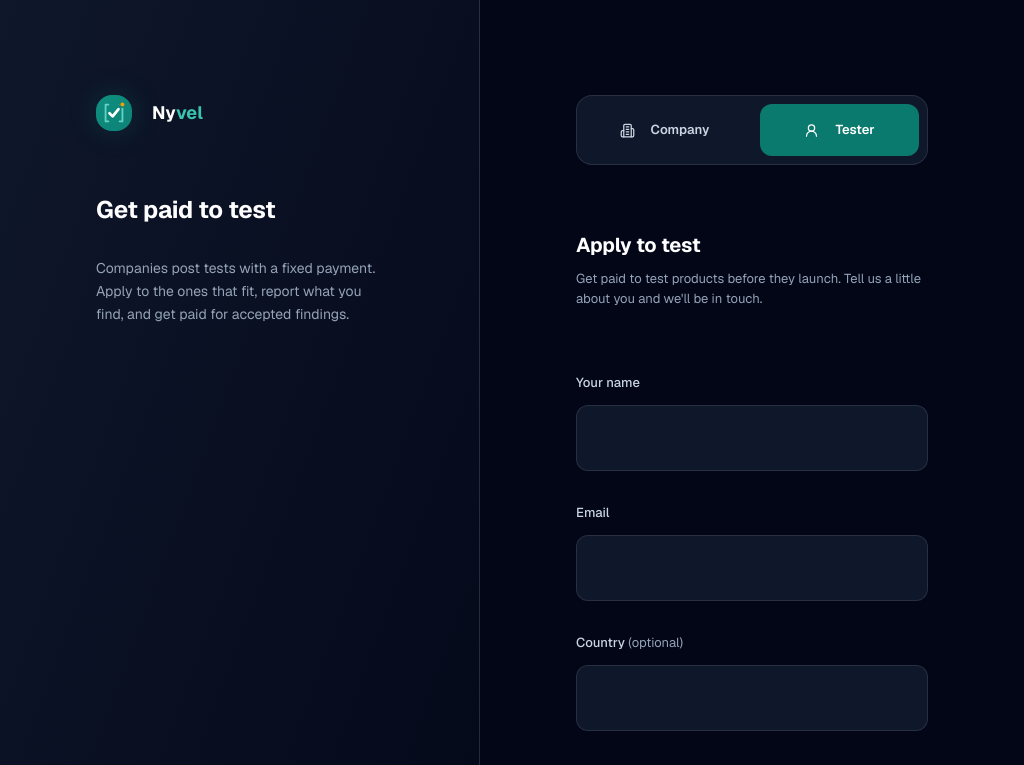
Scenario: RequestAccess page › shows the server error, e.g. the throttle message
Type "Kofi" into the field labelled "Your name" at (752, 438), box 576,405 -> 928,471
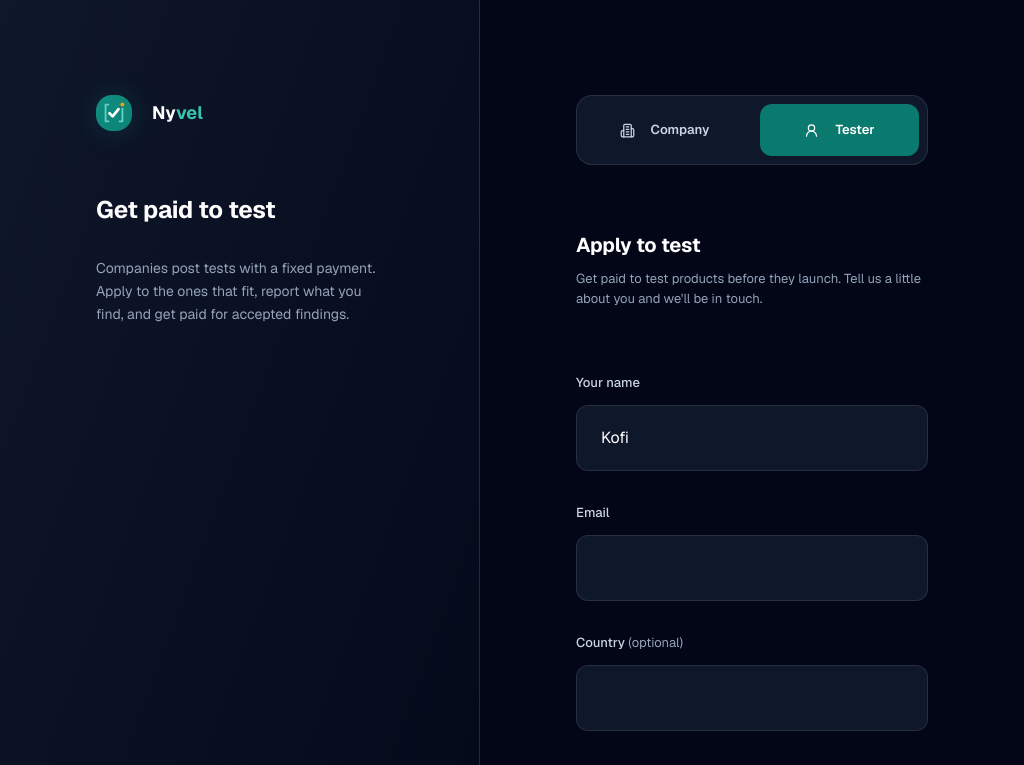
Type "kofi@example.com" into the field labelled "Email" at (752, 568), box 576,535 -> 928,601
(page scrolled)
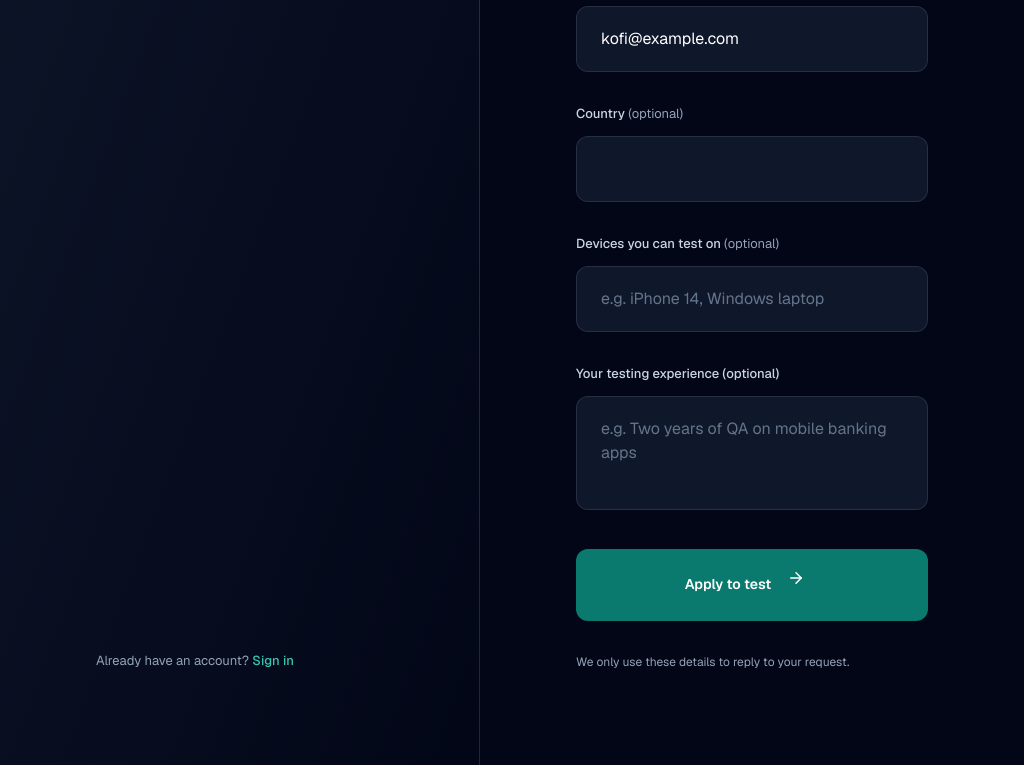
Click the button "Apply to test" at (752, 585), box 576,549 -> 928,621
(page scrolled)
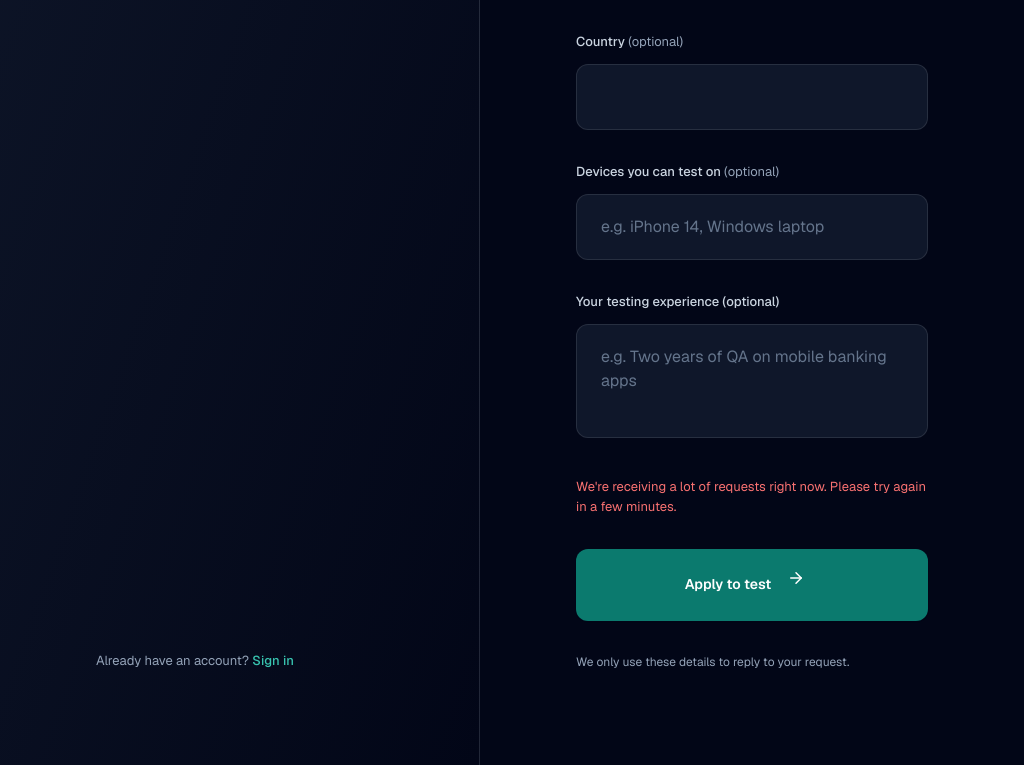
Expected: the message shows "lot of requests", 576,478 -> 926,515
